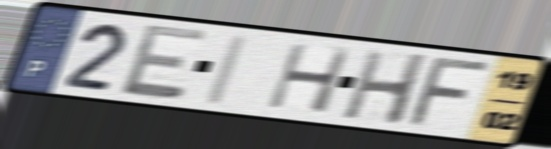2: (55, 18, 135, 94)
E: (118, 21, 211, 102)
F: (403, 56, 498, 129)
H: (339, 48, 434, 128), (263, 41, 356, 116)
I: (199, 31, 255, 108)
